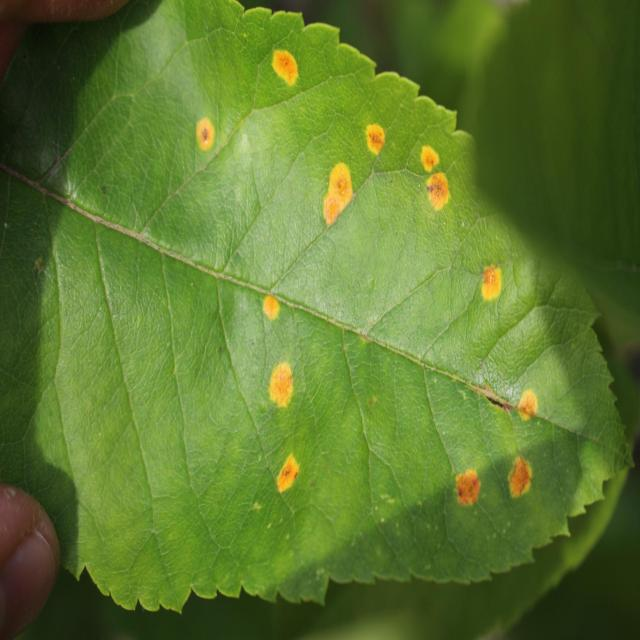Rust: (254, 34, 321, 100), (315, 141, 358, 241), (245, 278, 299, 328), (360, 106, 393, 180), (264, 358, 306, 414), (451, 459, 488, 522), (268, 444, 309, 496), (502, 454, 540, 510), (474, 251, 506, 313), (186, 106, 228, 152), (514, 384, 551, 432), (424, 169, 452, 222), (417, 130, 442, 171)
